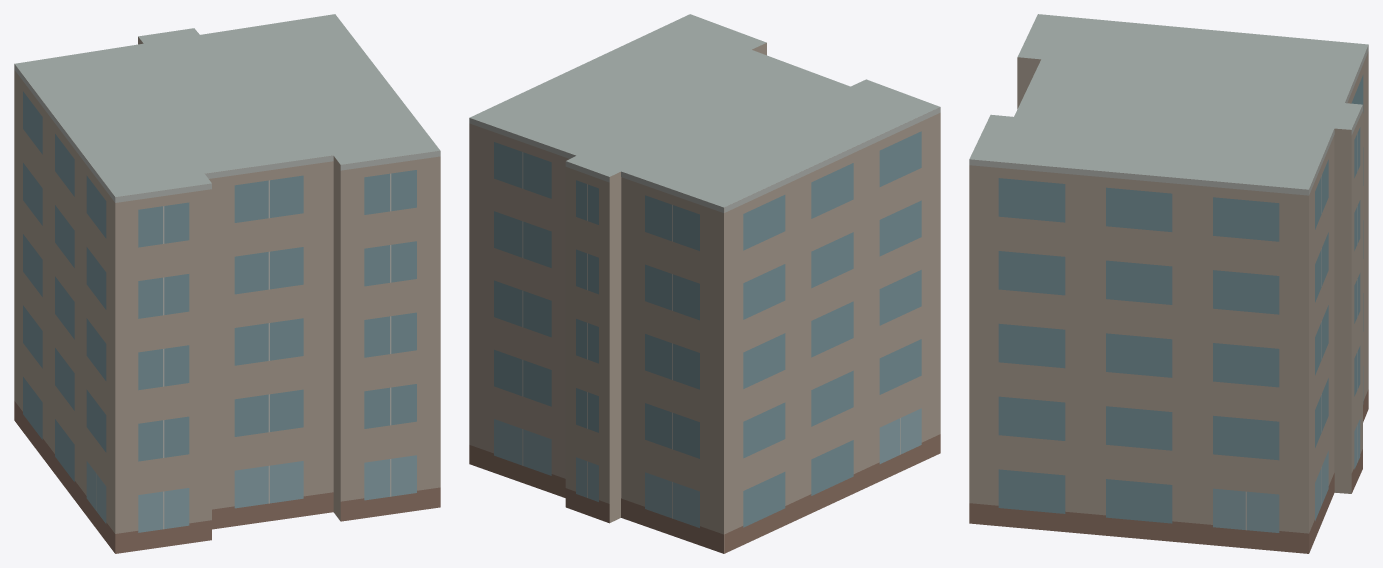
File: survey-upis-32663388.glb
3 renders of one model, left to right at view 1: azimuth 30°, elevation 25°; view 2: azimuth 150°, elevation 25°; view 3: azimuth 270°, elevation 25°, orthographic. The views are drawn at different scales.
Visible parts, largest first — view 1: survey-upis-32663388.tmp; view 2: survey-upis-32663388.tmp; view 3: survey-upis-32663388.tmp.
Boxes of the visible parts, <box> form: survey-upis-32663388.tmp: <box>14,14,440,553</box>; survey-upis-32663388.tmp: <box>469,14,940,553</box>; survey-upis-32663388.tmp: <box>969,14,1368,553</box>.
Size of the model in its own units: 15.53 by 15 by 14.92.
